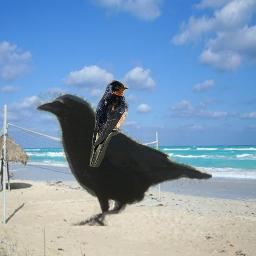Crow: (31, 90, 212, 226)
Swallow: (88, 79, 129, 167)
